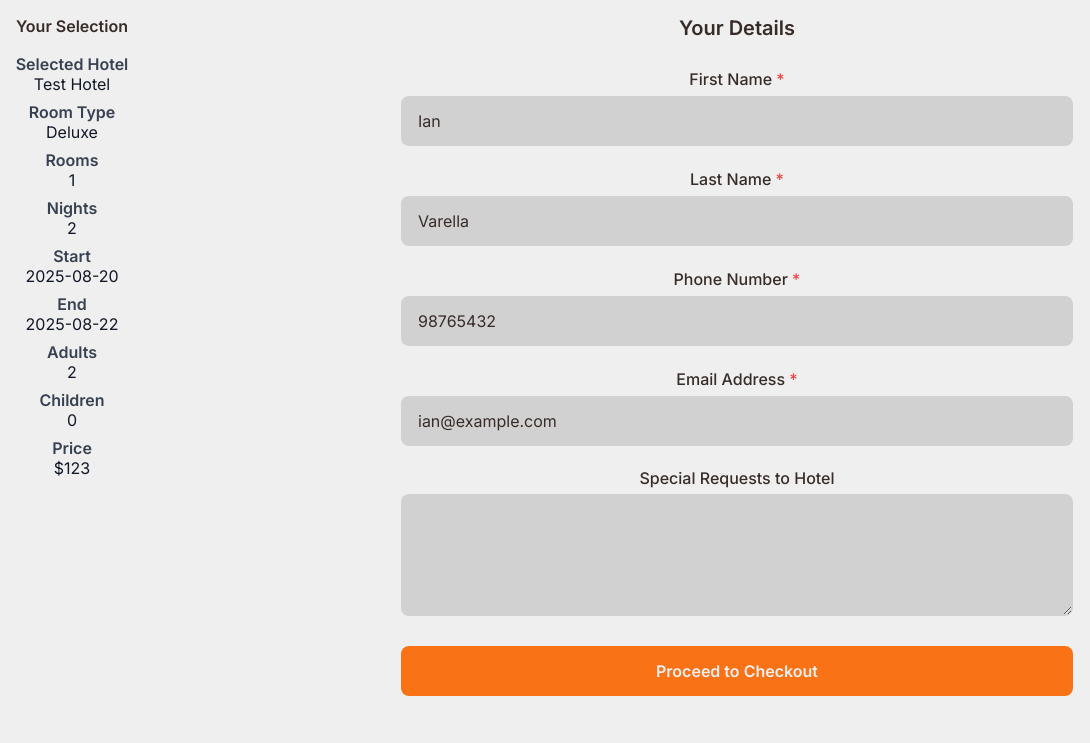
Test: BookingPage - unhappy paths › shows validation errors and does NOT POST when inputs are invalid
Check: the heading "Your Details" is shown, box [679, 16, 795, 40]
// Intentionally invalid
Clear the field below "First Name" at point(737, 121), box [401, 96, 1073, 146]
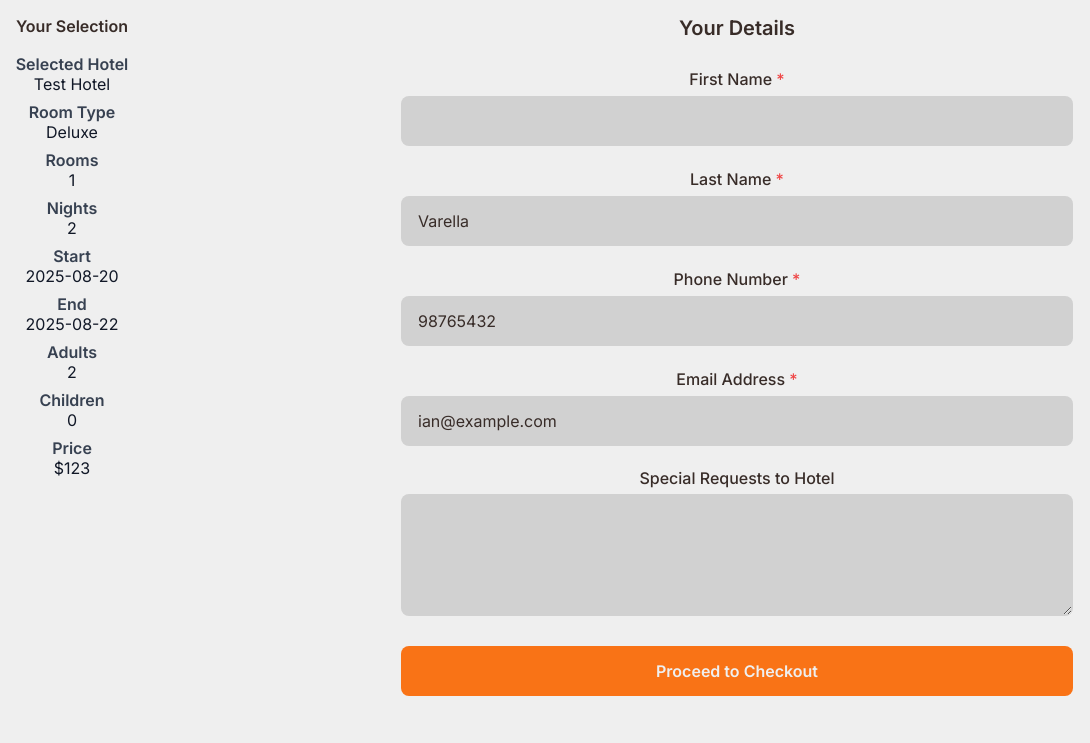
Replace the text in the field below "Last Name" with "V4rella" at point(737, 221), box [401, 196, 1073, 246]
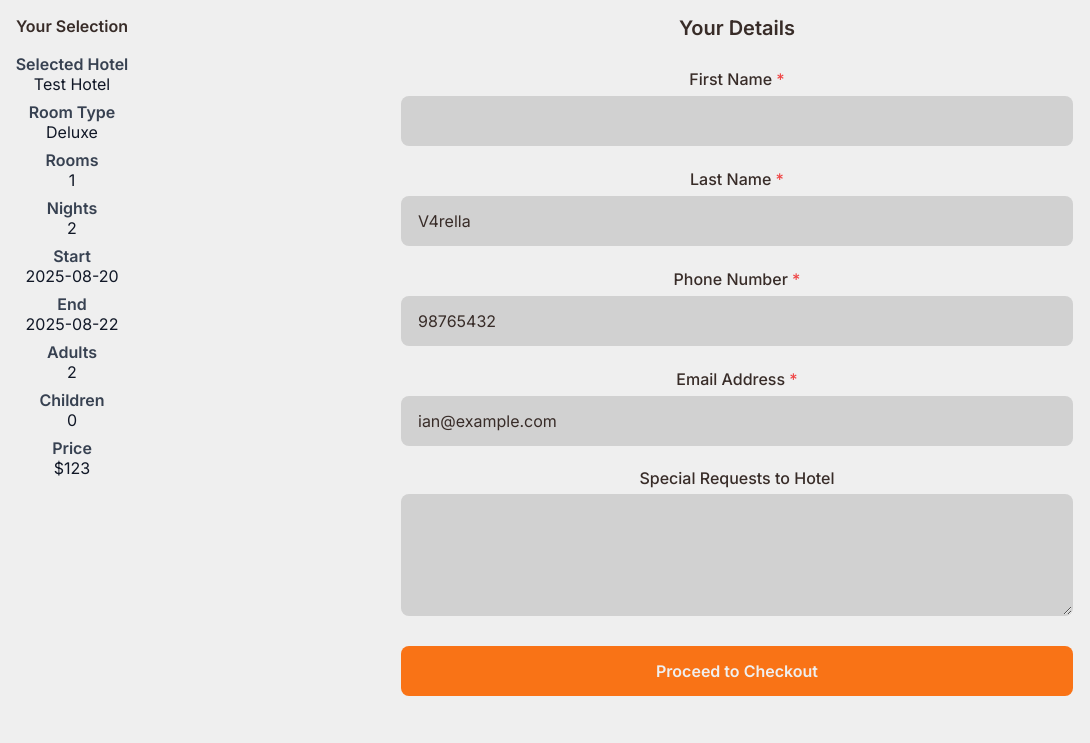
Replace the text in the field below "Phone Number" with "abc" at point(737, 321), box [401, 296, 1073, 346]
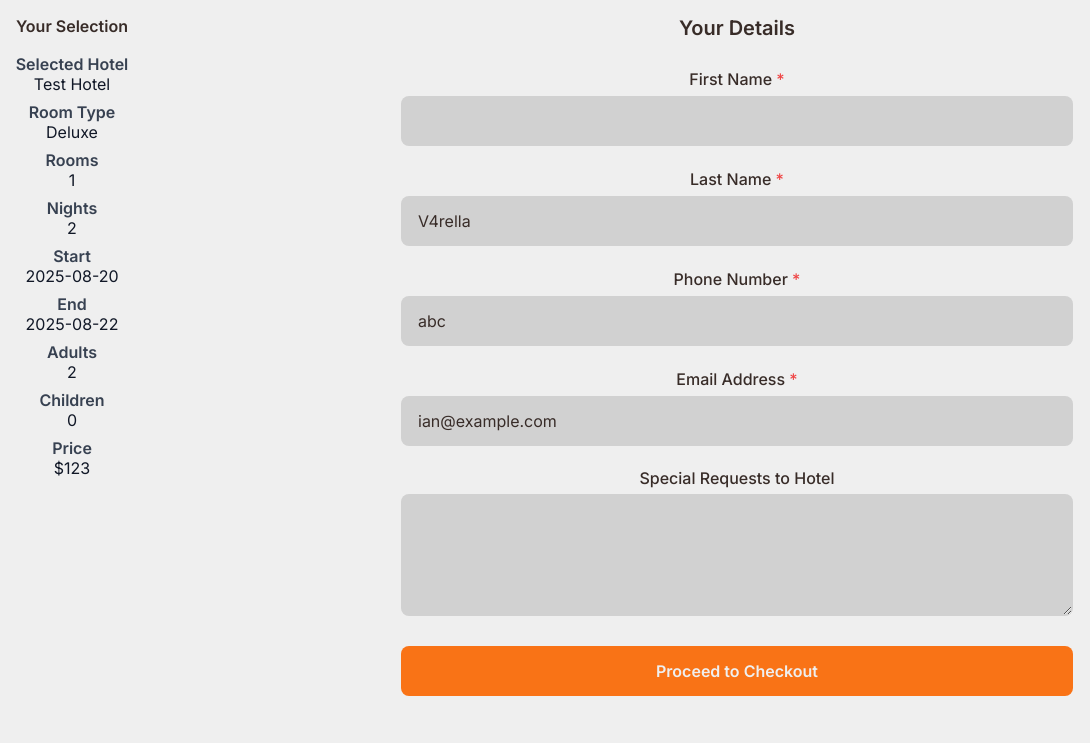
Clear the field below "Email Address" at point(737, 421), box [401, 396, 1073, 446]
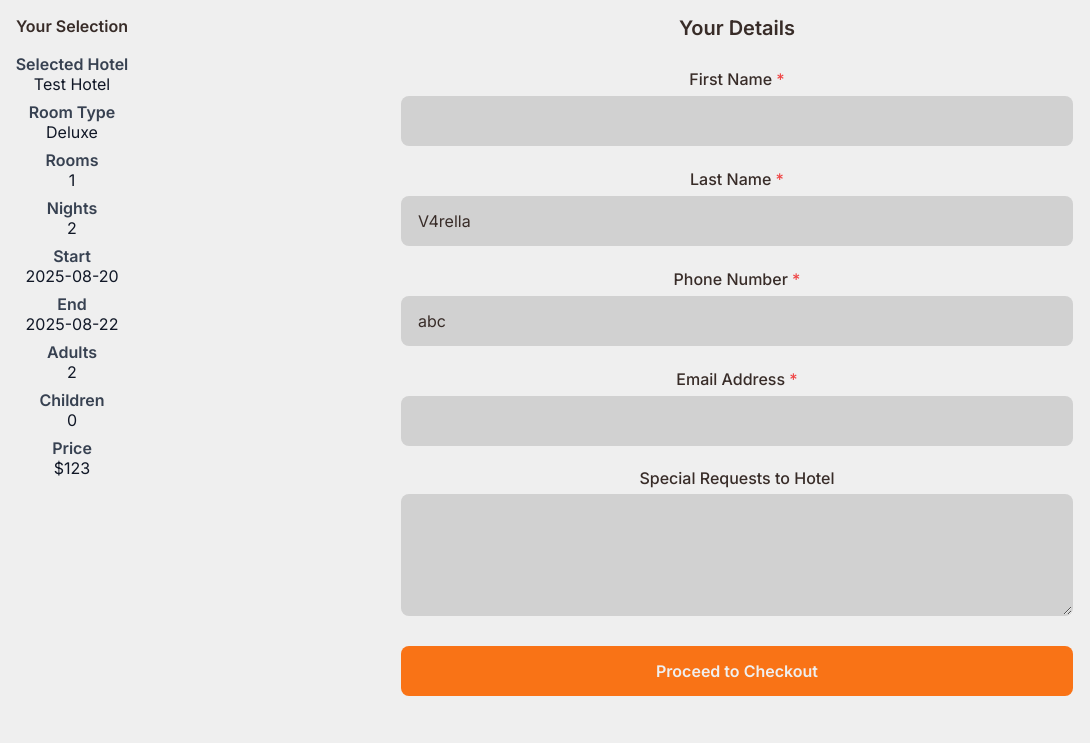
Click the button "Proceed to Checkout" at point(737, 671), box [401, 646, 1073, 696]
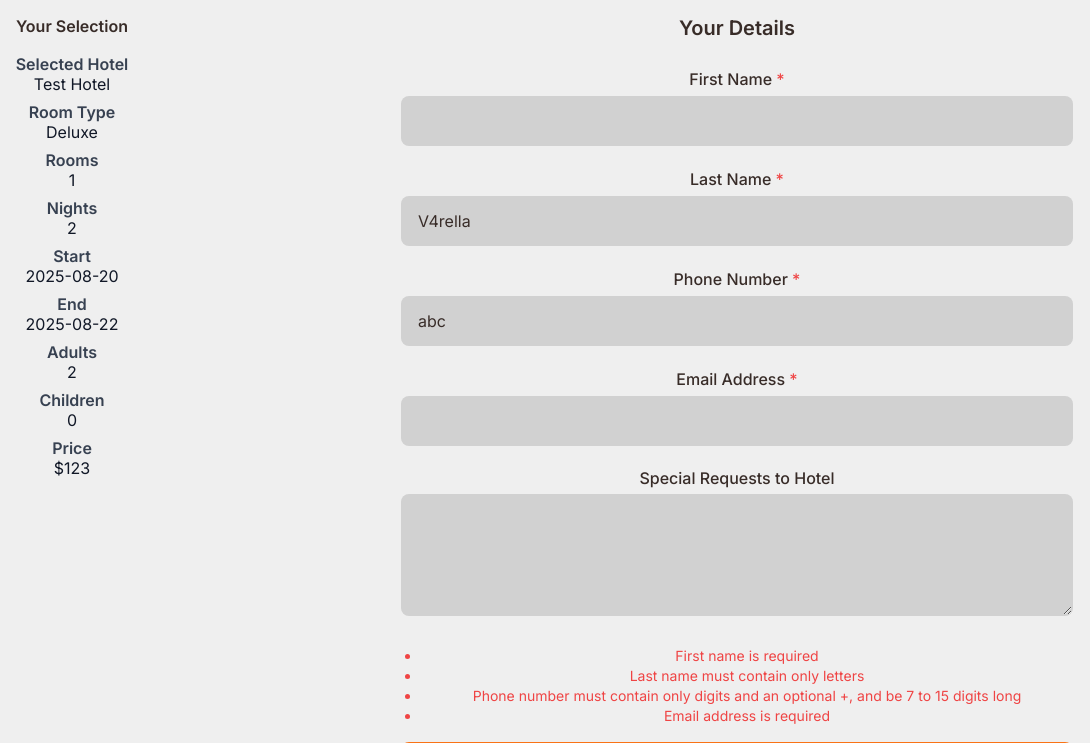
Check: the list item "First name is required" is shown, box [675, 647, 819, 664]
Check: the list item "Last name must contain only letters" is shown, box [630, 667, 864, 684]
Check: the list item "Phone number must contain only" is shown, box [473, 687, 1021, 704]
